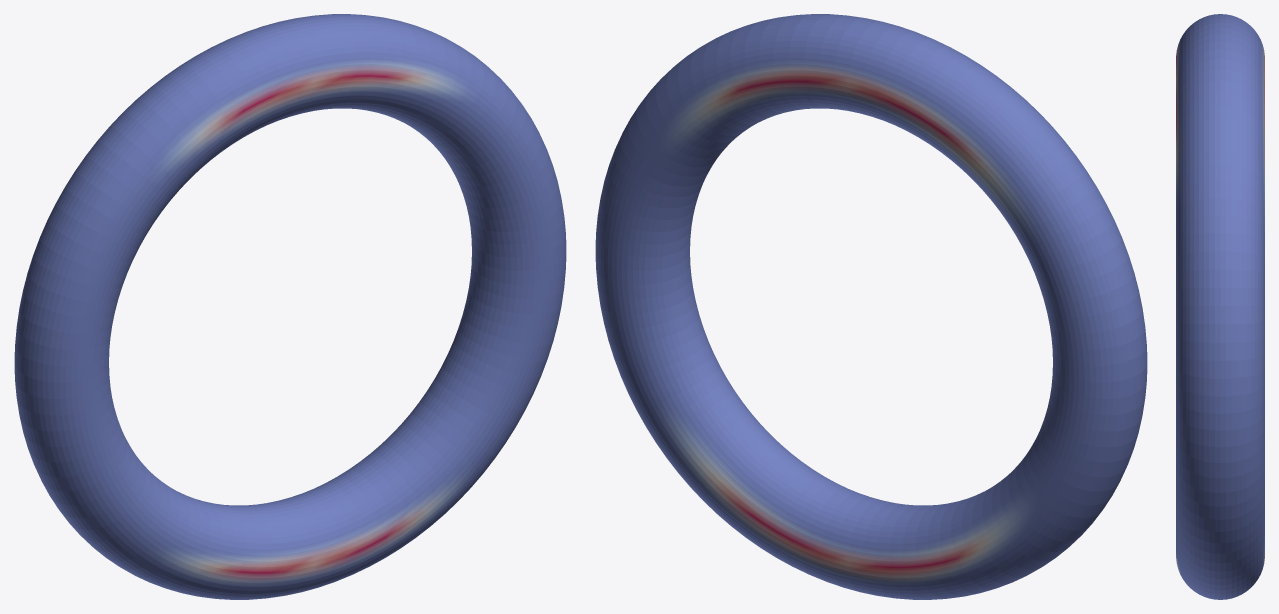
The picture shows the model from 3 angles, left to right: view 1: azimuth 30°, elevation 25°; view 2: azimuth 150°, elevation 25°; view 3: azimuth 270°, elevation 25°; orthographic projection. The views are drawn at different scales.
Parts seen in each view (by area): view 1: world; view 2: world; view 3: world.
Boxes of the visible parts, x1,y1,x2,y2 form: world: (14,14,566,599); world: (595,14,1147,599); world: (1176,14,1264,599).
Size of the model in its own units: 14.93 by 14.93 by 2.26.
